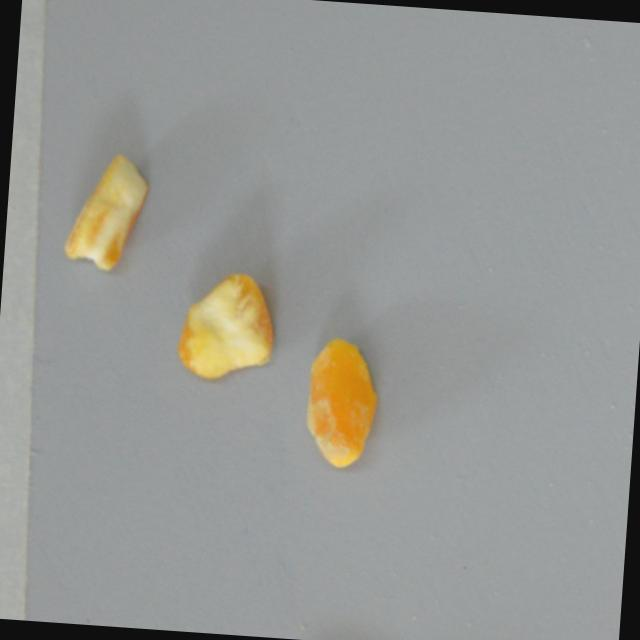no_canjicado: (173, 261, 280, 387)
pelicula: (297, 330, 387, 475), (59, 147, 151, 277)
